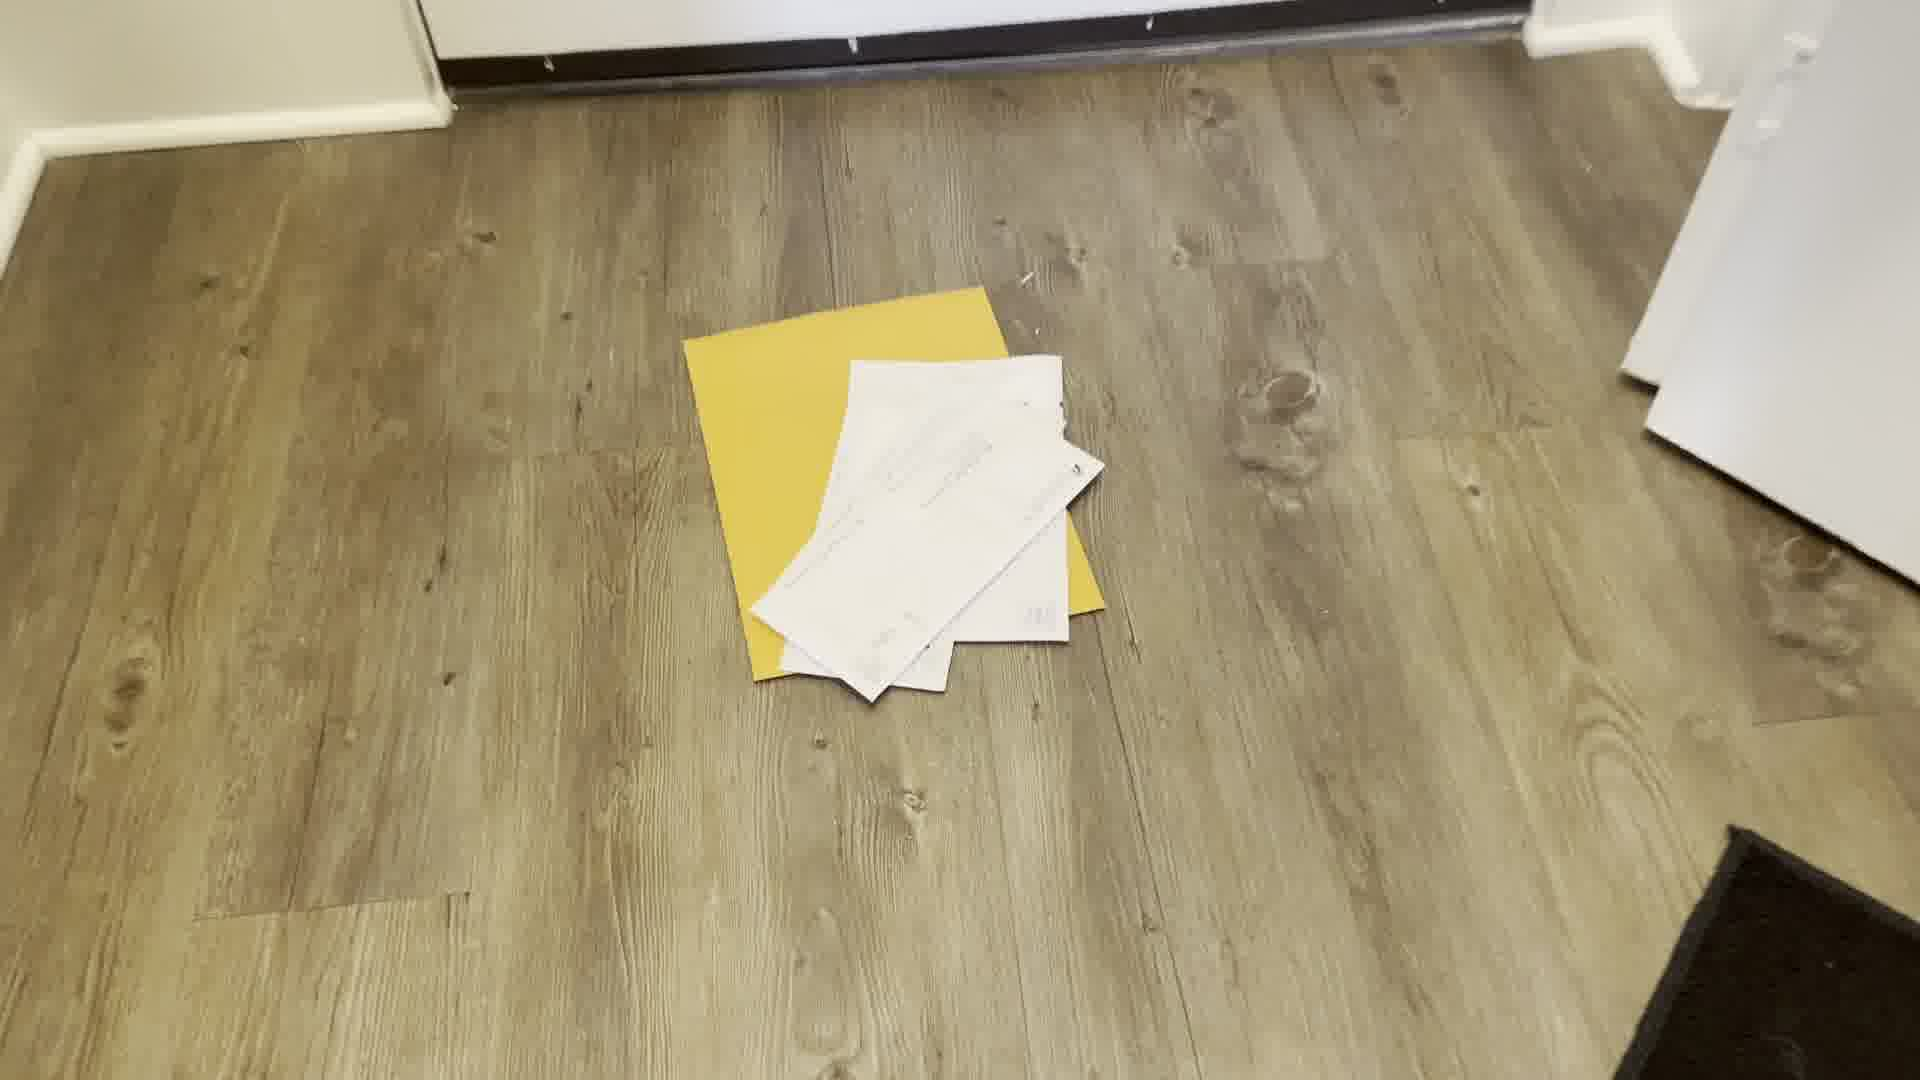envelope: (665, 276, 1116, 716)
